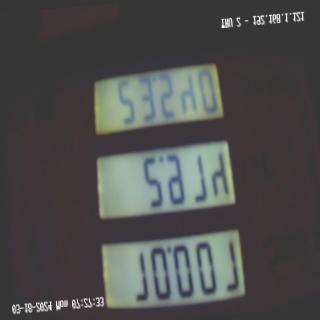screen: (78, 46, 250, 320)
